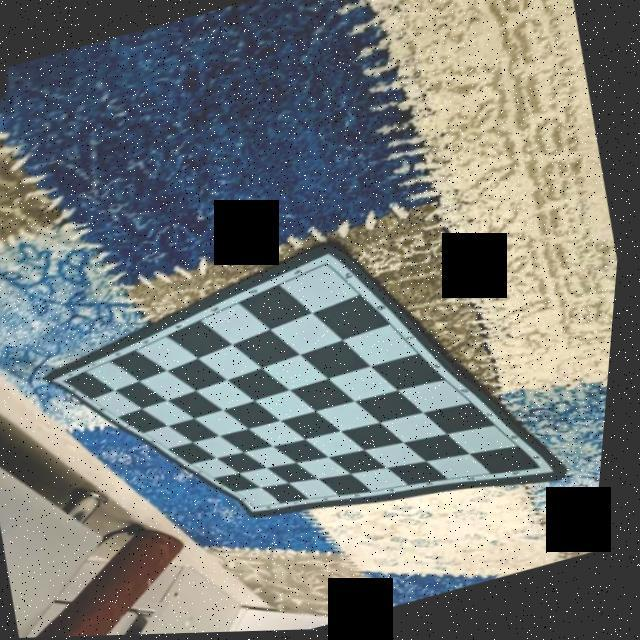chess-table-corners: (313, 252, 346, 278), (57, 371, 85, 394), (252, 497, 278, 521), (532, 460, 558, 482)
